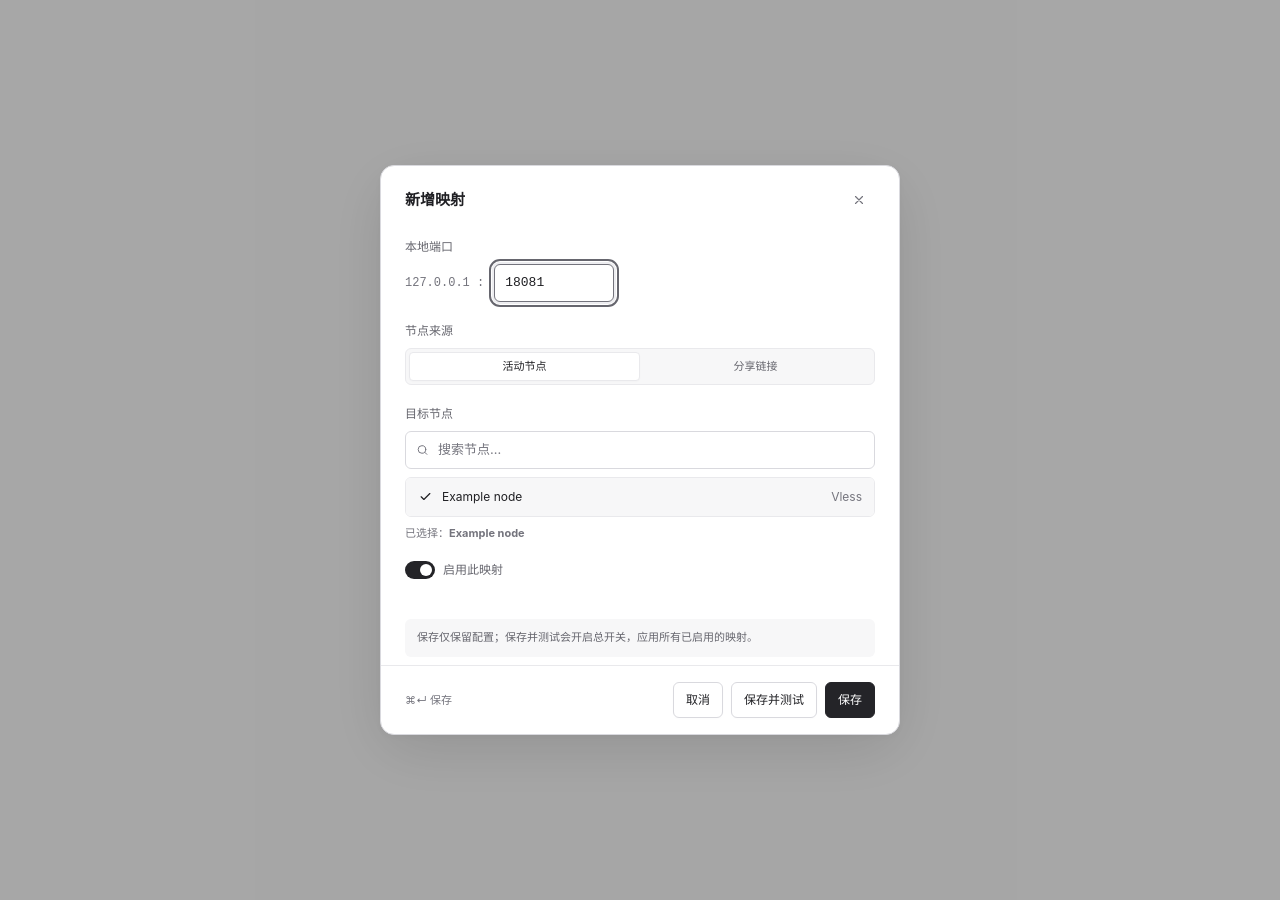
it: explains enabling all mappings before save-and-test and disables paused mapping tests
Expected: the text "保存仅保留配置；保存并测试会开启总开关，应用所有已启用的映射。" is shown, [405,619,875,657]
Click the checkbox labelled "启用此映射". click: (454, 570)
box: [405,561,503,579]
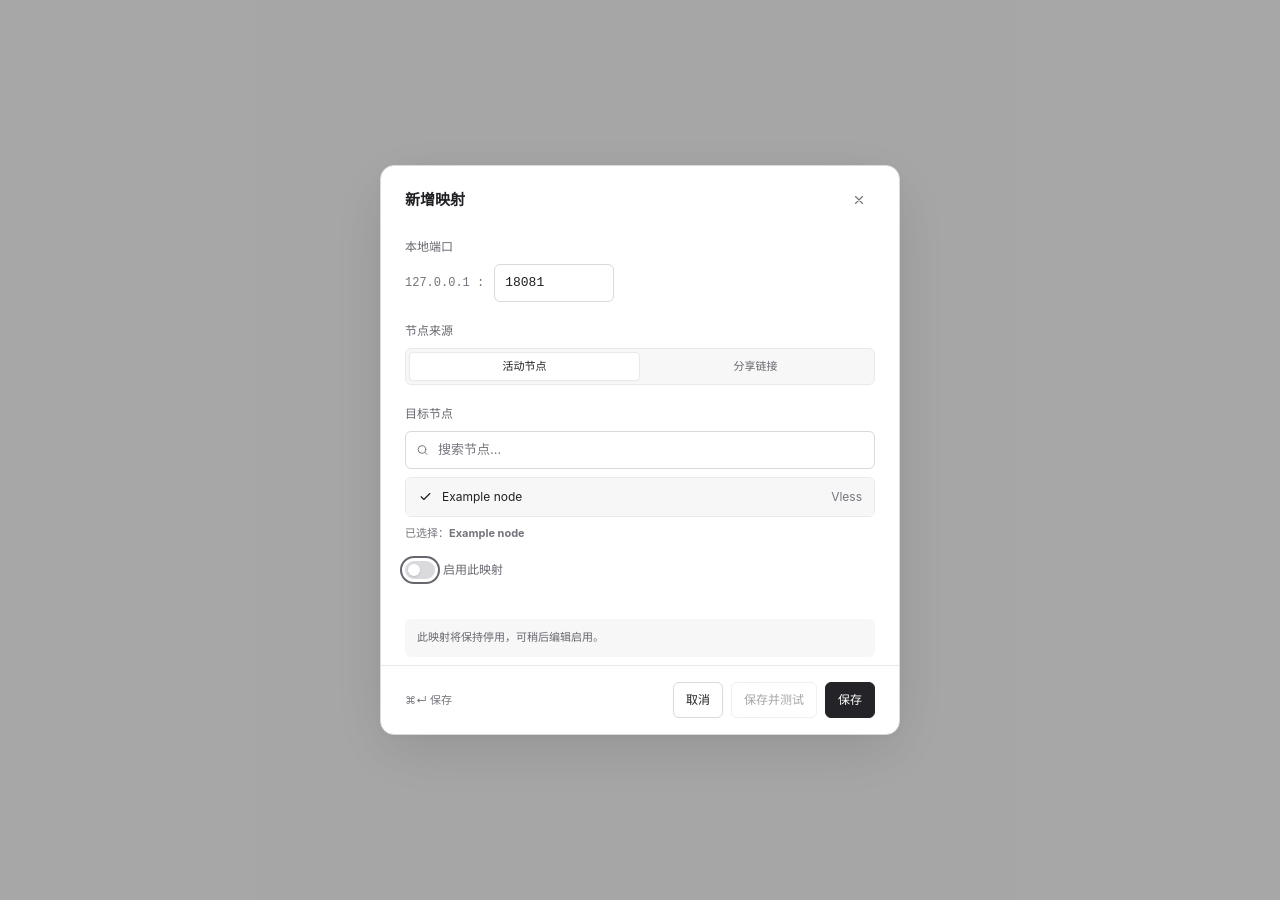
Expected: the button "保存" is enabled, [825,682,875,718]
Expected: the button "保存并测试" is disabled, [731,682,817,718]
